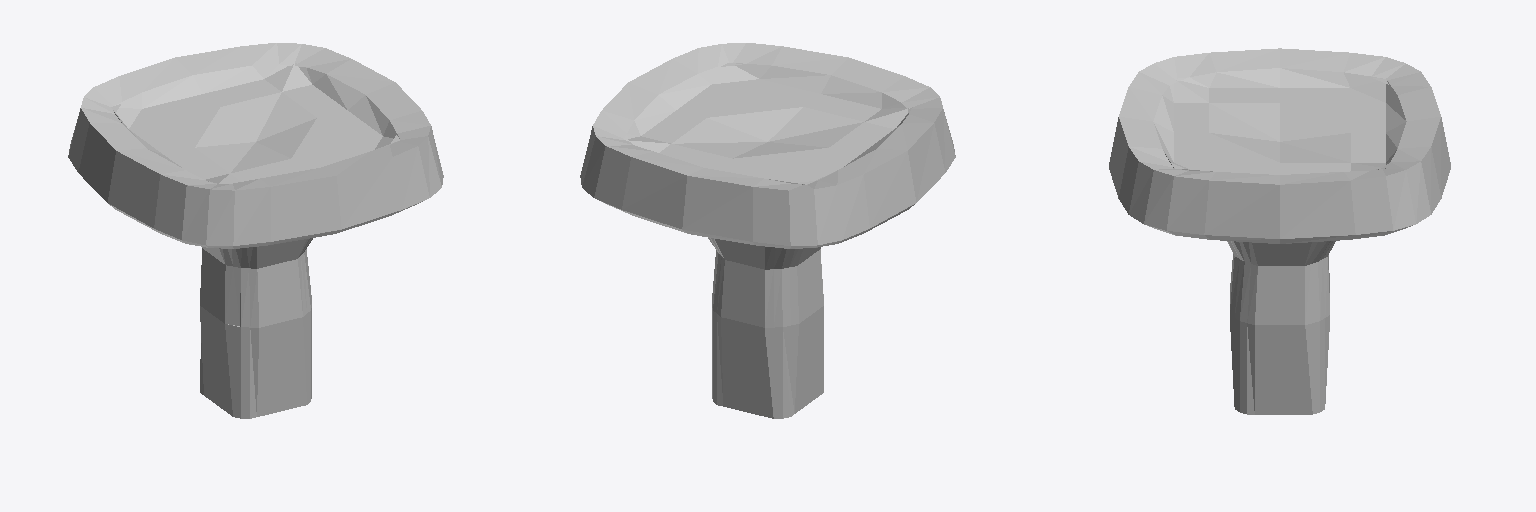
Rendered from MushroomGrow2.obj.
3 views of the same model, side by side, from view 1: azimuth 30°, elevation 25°; view 2: azimuth 150°, elevation 25°; view 3: azimuth 270°, elevation 25° (orthographic).
Visible parts, largest first — view 1: Куб; view 2: Куб; view 3: Куб.
Part boxes in pixels (bbox=[...]): Куб: bbox=[68, 43, 443, 418]; Куб: bbox=[580, 43, 955, 418]; Куб: bbox=[1109, 48, 1450, 414].
Size of the model in its own units: 6.8 by 6.1 by 6.8.